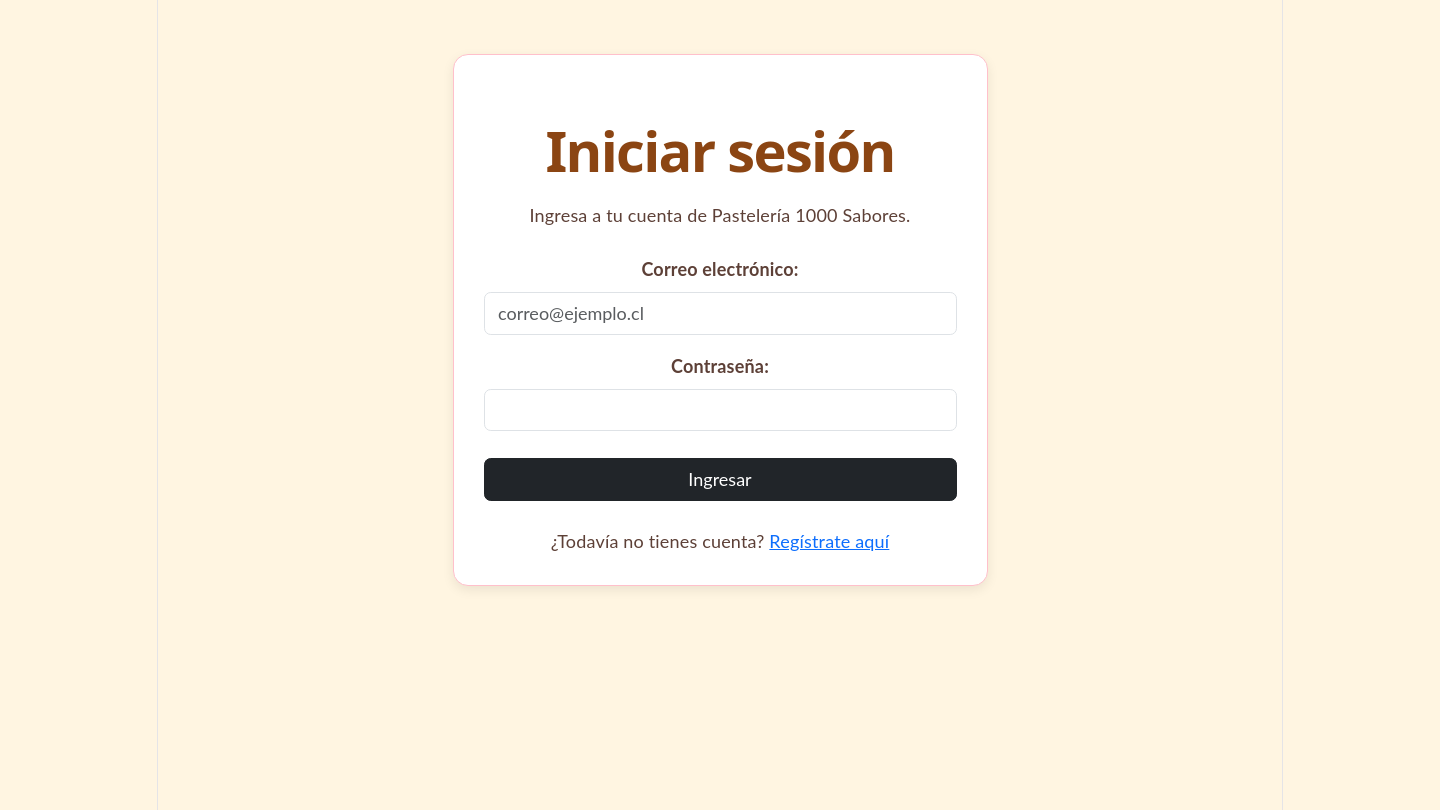
Formulario de inicio de sesión › rechaza credenciales incorrectas
This screenshot has width=1440, height=810.
Step 1. Type "ana@example.com" into the field with placeholder "correo@ejemplo.cl" → (720, 313), box left=484, top=292, right=956, bottom=335
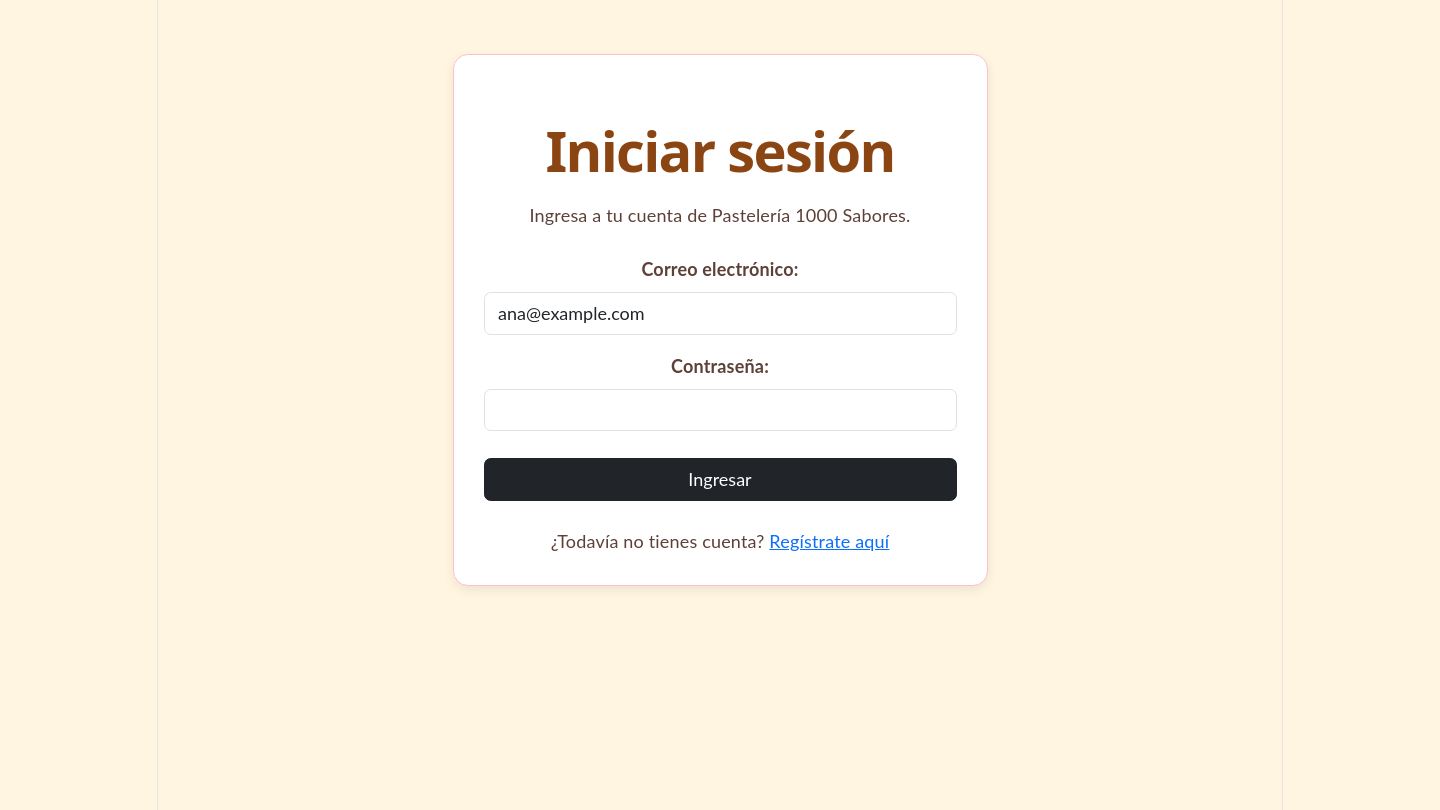
Step 2. Type "incorrecta" into the password field labelled "Contraseña:" → (720, 410), box left=484, top=389, right=956, bottom=431
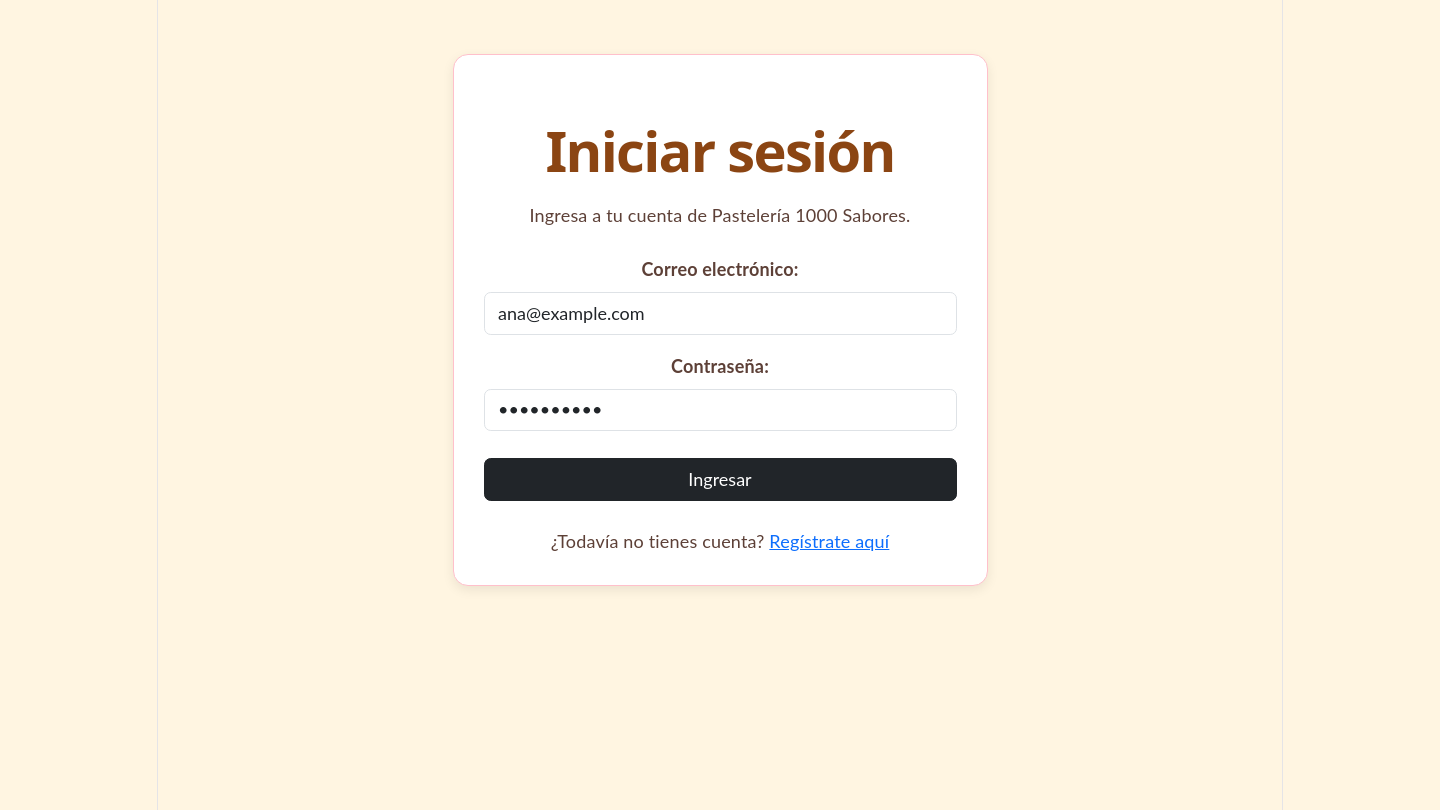
Step 3. Click the button "Ingresar" → (720, 479), box left=484, top=458, right=956, bottom=501
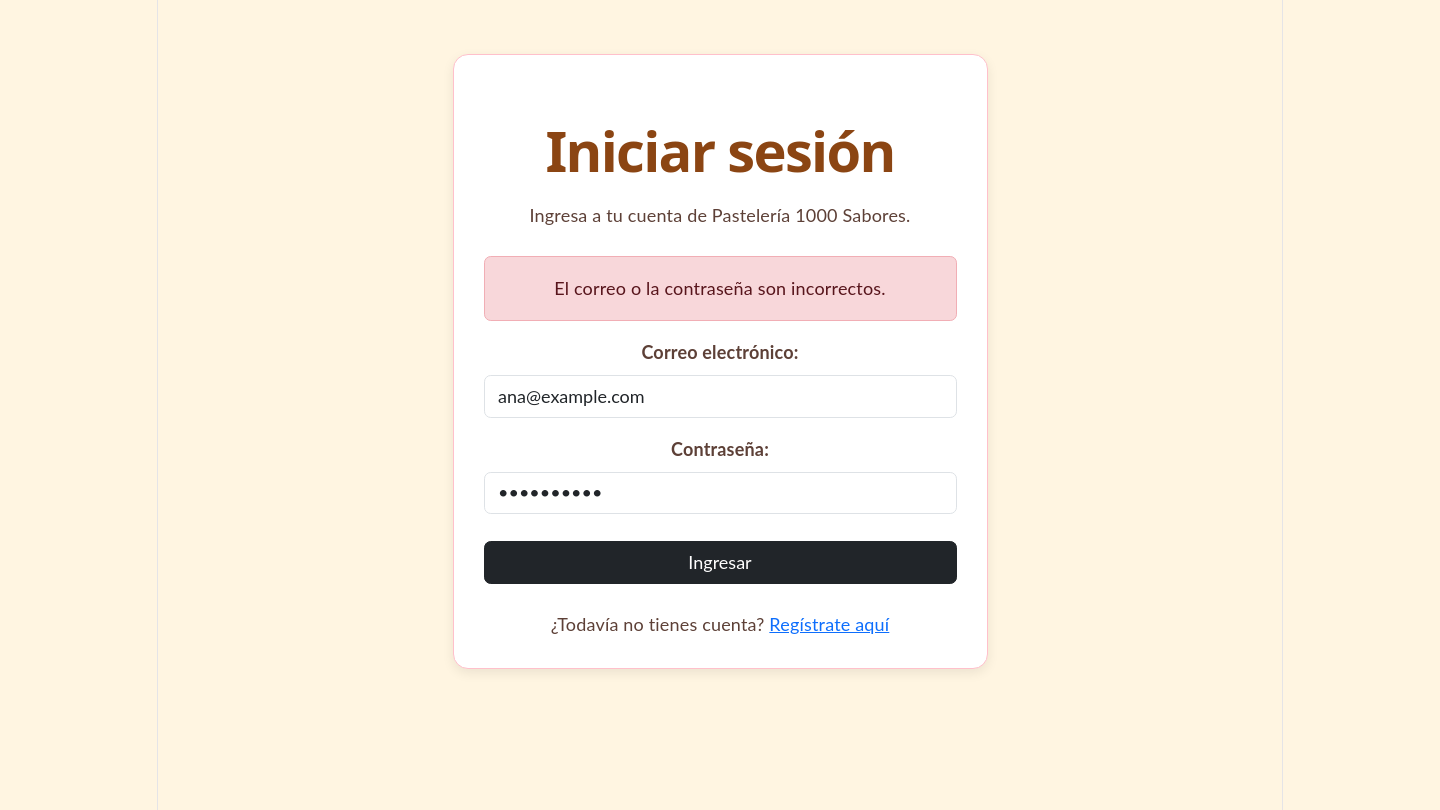
expect the text "El correo o la contraseña son incorrectos." is shown: met, box left=484, top=256, right=956, bottom=321
